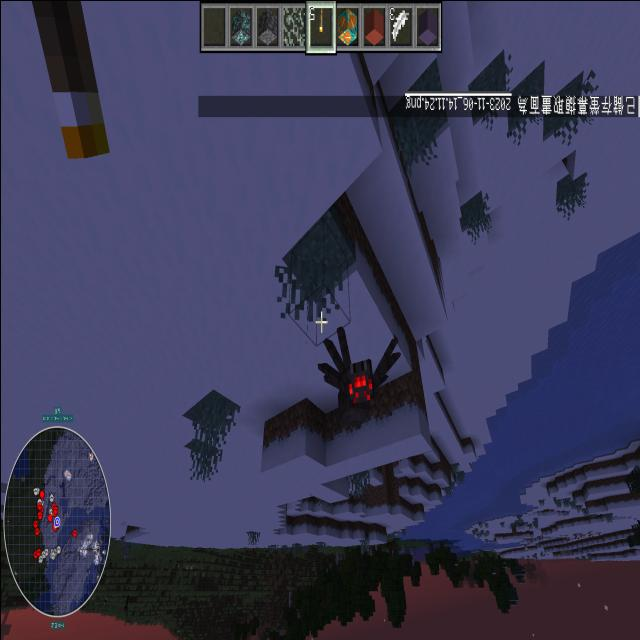Spider: (307, 313, 403, 431)
